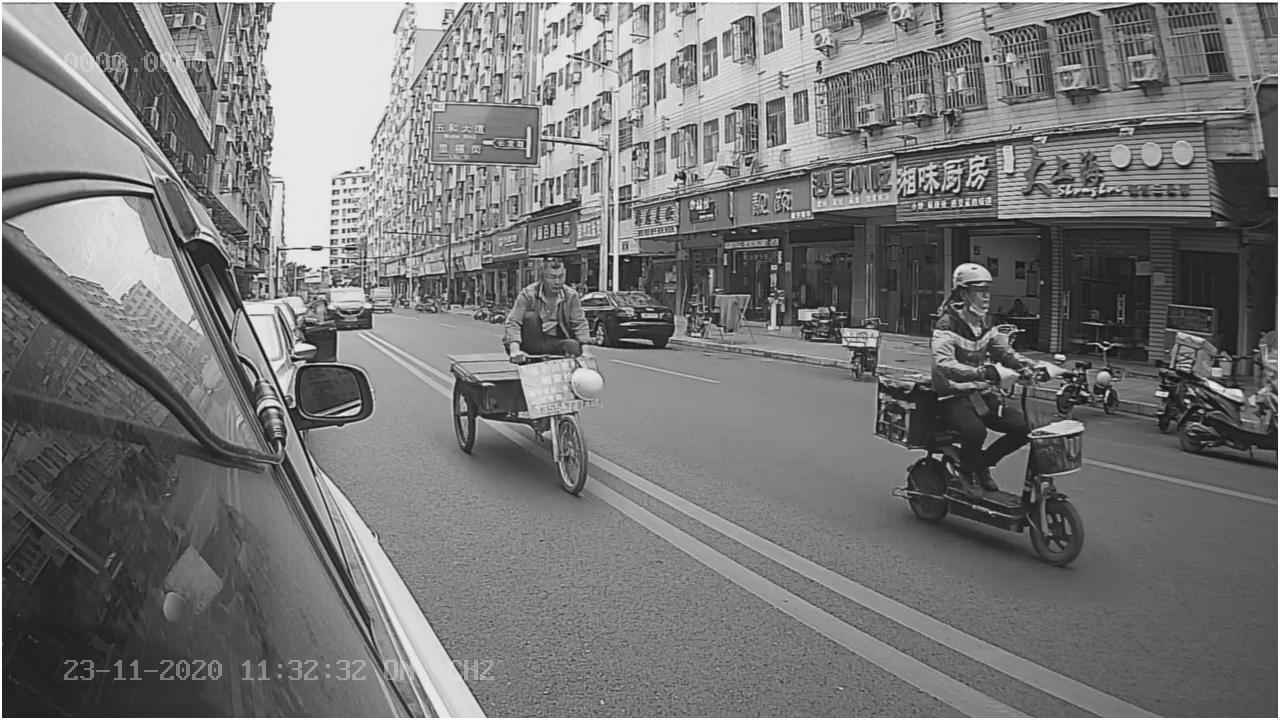person: (928, 257, 1036, 381), (503, 253, 593, 362)
